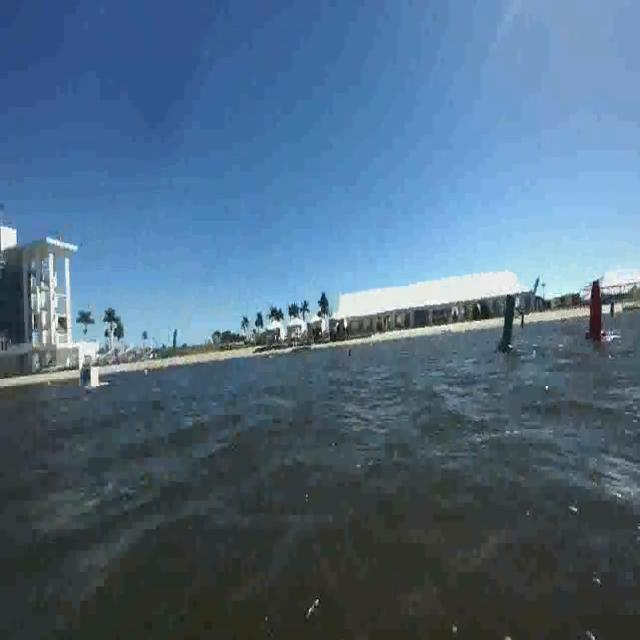green-column-buoy: (497, 292, 516, 353)
red-column-buoy: (584, 280, 606, 343)
